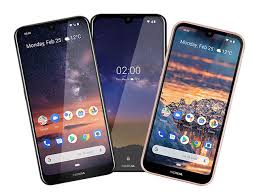nokia: (11, 13, 118, 192), (137, 12, 244, 191)
